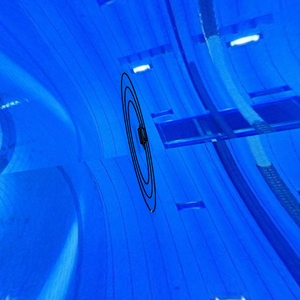circle: (117, 69, 165, 216)
submarine: (135, 122, 153, 156)
